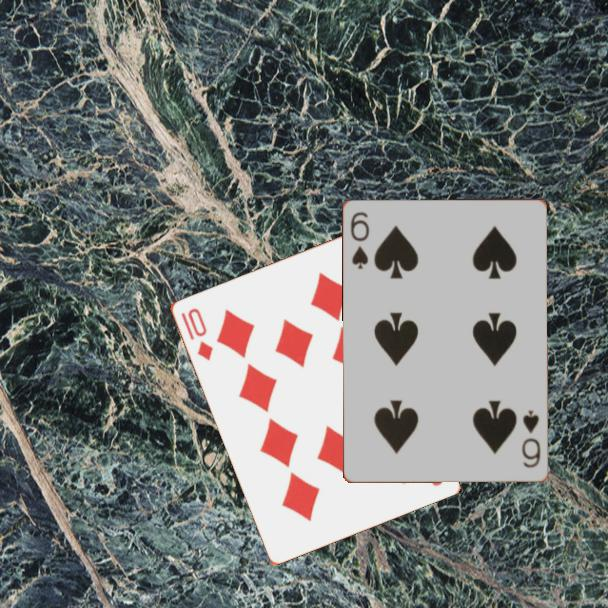d10: (177, 304, 216, 363)
s06: (347, 209, 372, 272), (519, 407, 543, 471)
